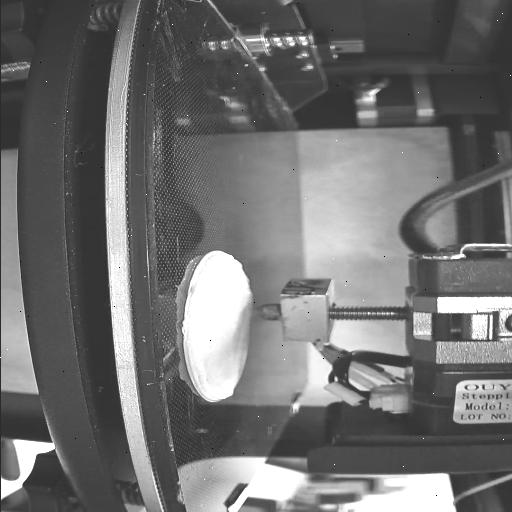over_extrusion: (204, 253, 254, 297), (194, 374, 238, 402)
